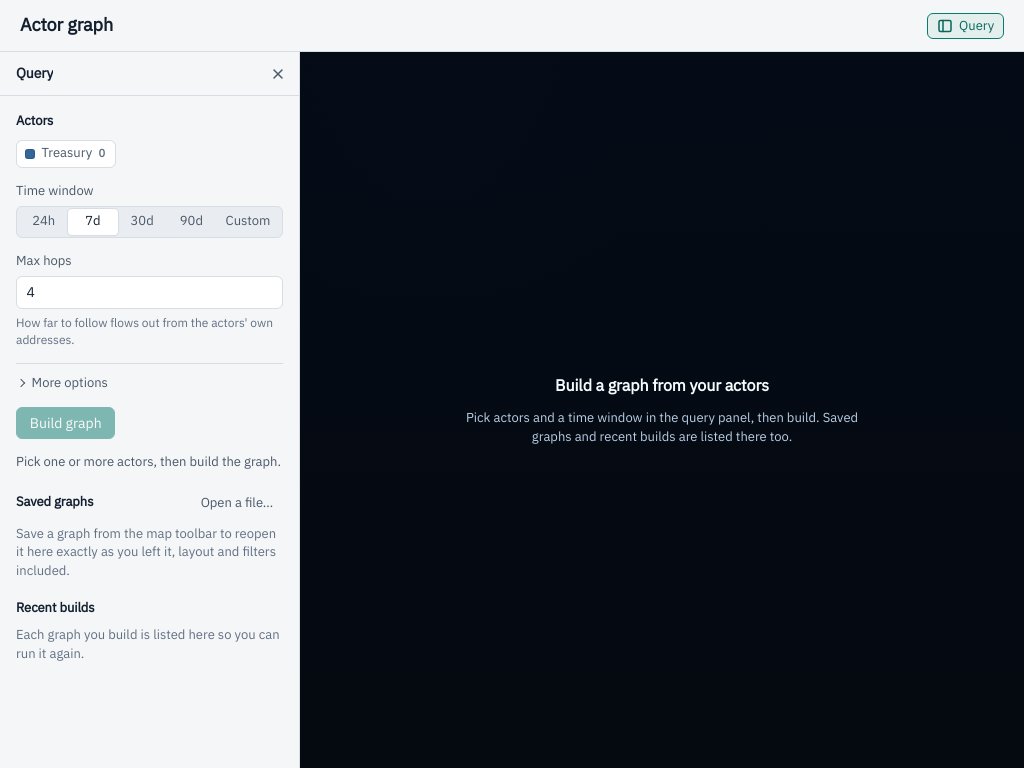
Test: ActorGraphPage › cancels a running build and says so
Expected: the text "Treasury" is shown, [41,144,92,163]
Click the checkbox labelled "Treasury 0" at (32, 154), box [25,146,40,161]
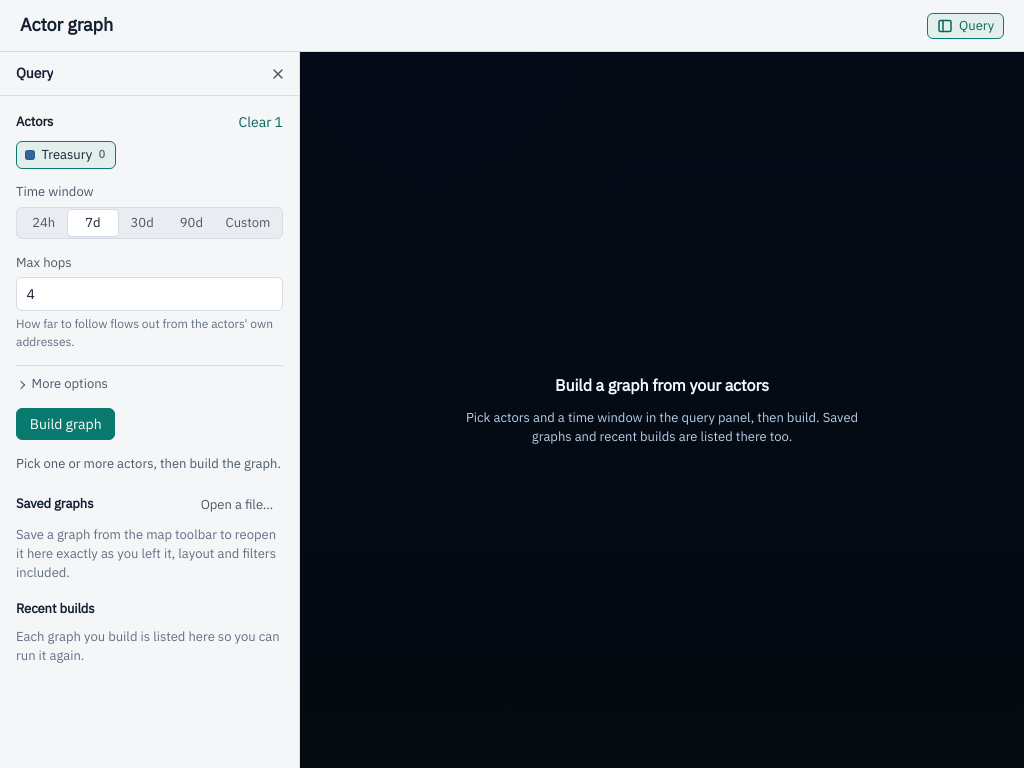
Click the button "Build graph" at (66, 424), box [16,408,116,440]
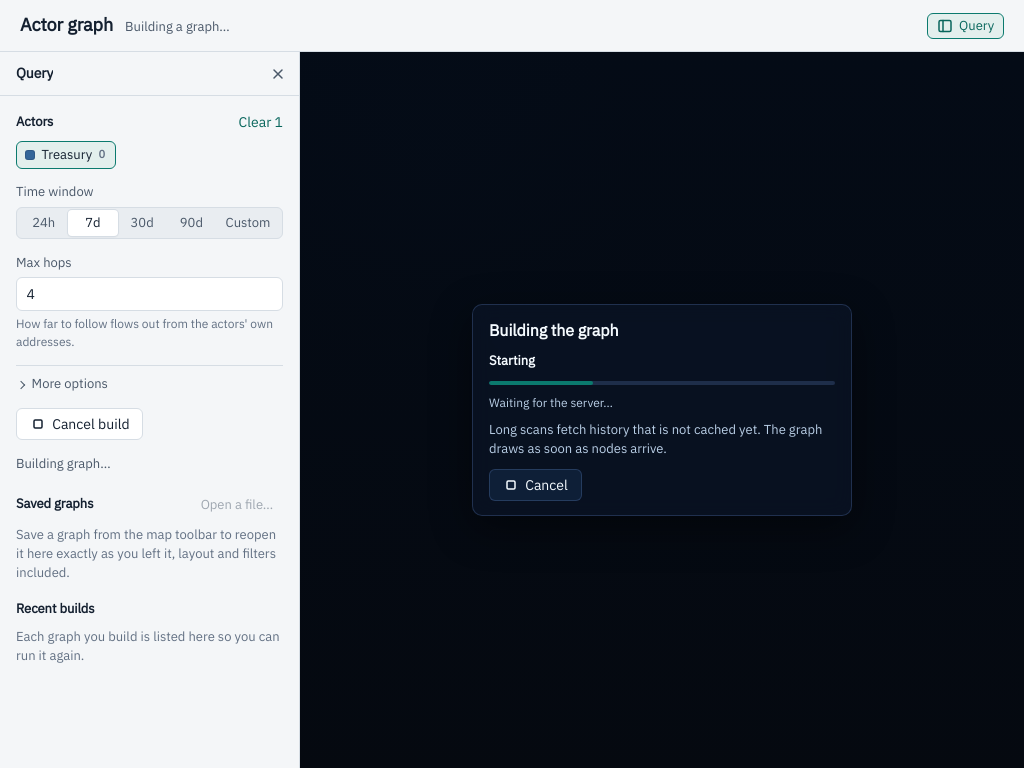
Expected: the heading "Building the graph" is shown, [489,320,618,340]
Click the button "Cancel build" at (80, 424), box [16,408,143,440]
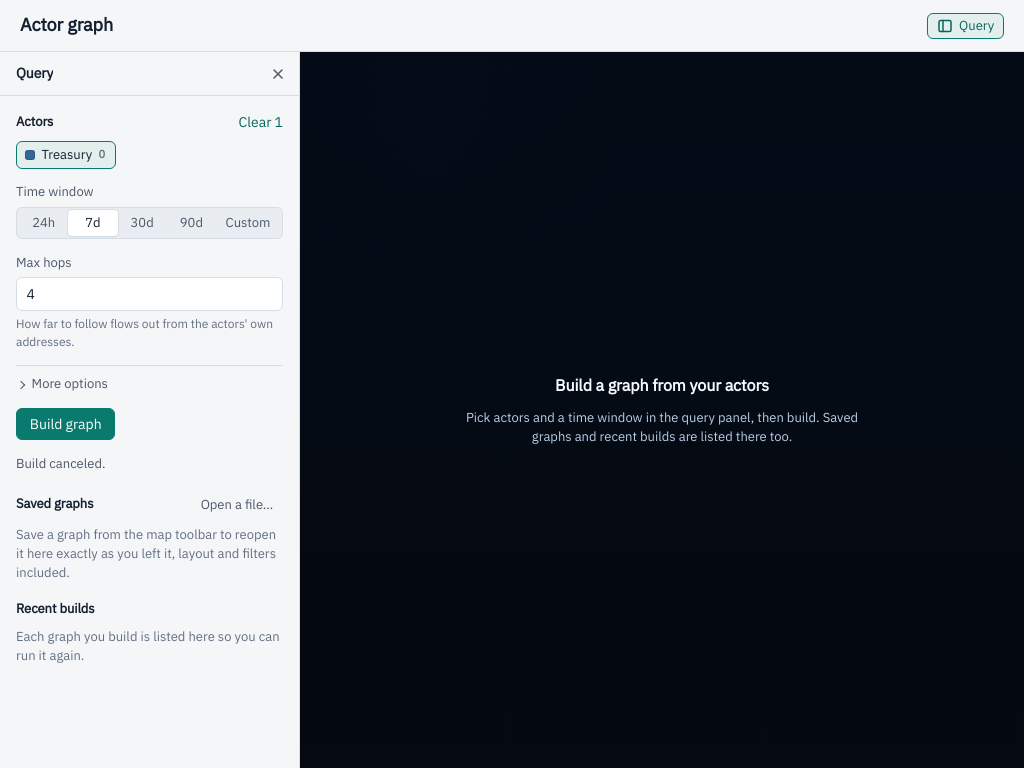
Expected: the text "Build canceled." is shown, [16,455,106,472]
Expected: the heading "Building the graph" is gone
Expected: the button "Build graph" is shown, [16,408,116,440]
